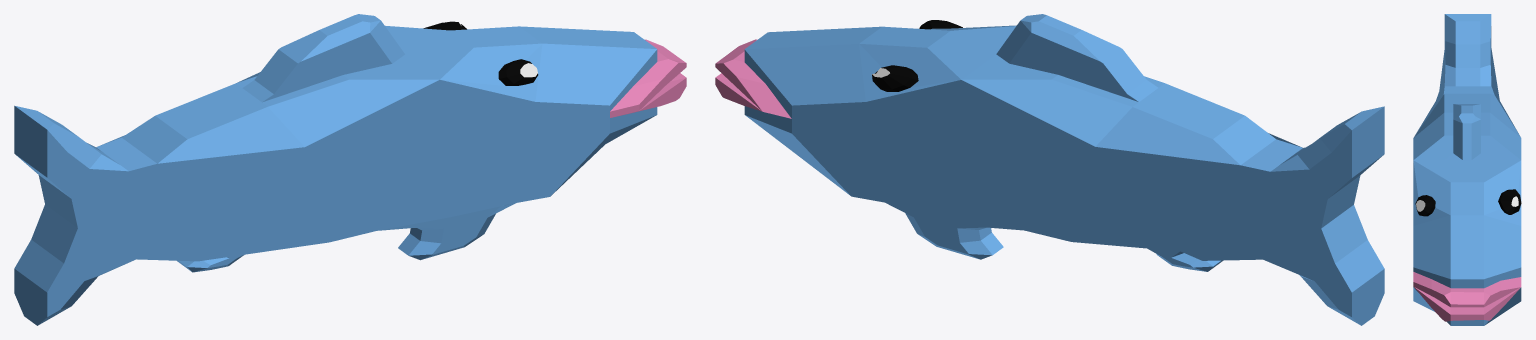
The model's file is ThirdFeesh.glb.
The picture shows the model from 3 angles, left to right: view 1: azimuth 30°, elevation 25°; view 2: azimuth 150°, elevation 25°; view 3: azimuth 270°, elevation 25°; orthographic projection. The views are drawn at different scales.
Visible parts, largest first — view 1: Cube.002; view 2: Cube.002; view 3: Cube.002.
Part boxes in pixels (x1,y1,x2,y2): Cube.002: (14,14,686,325); Cube.002: (715,14,1384,325); Cube.002: (1413,14,1521,325).
Size of the model in its own units: 12.33 by 4.13 by 2.52.
